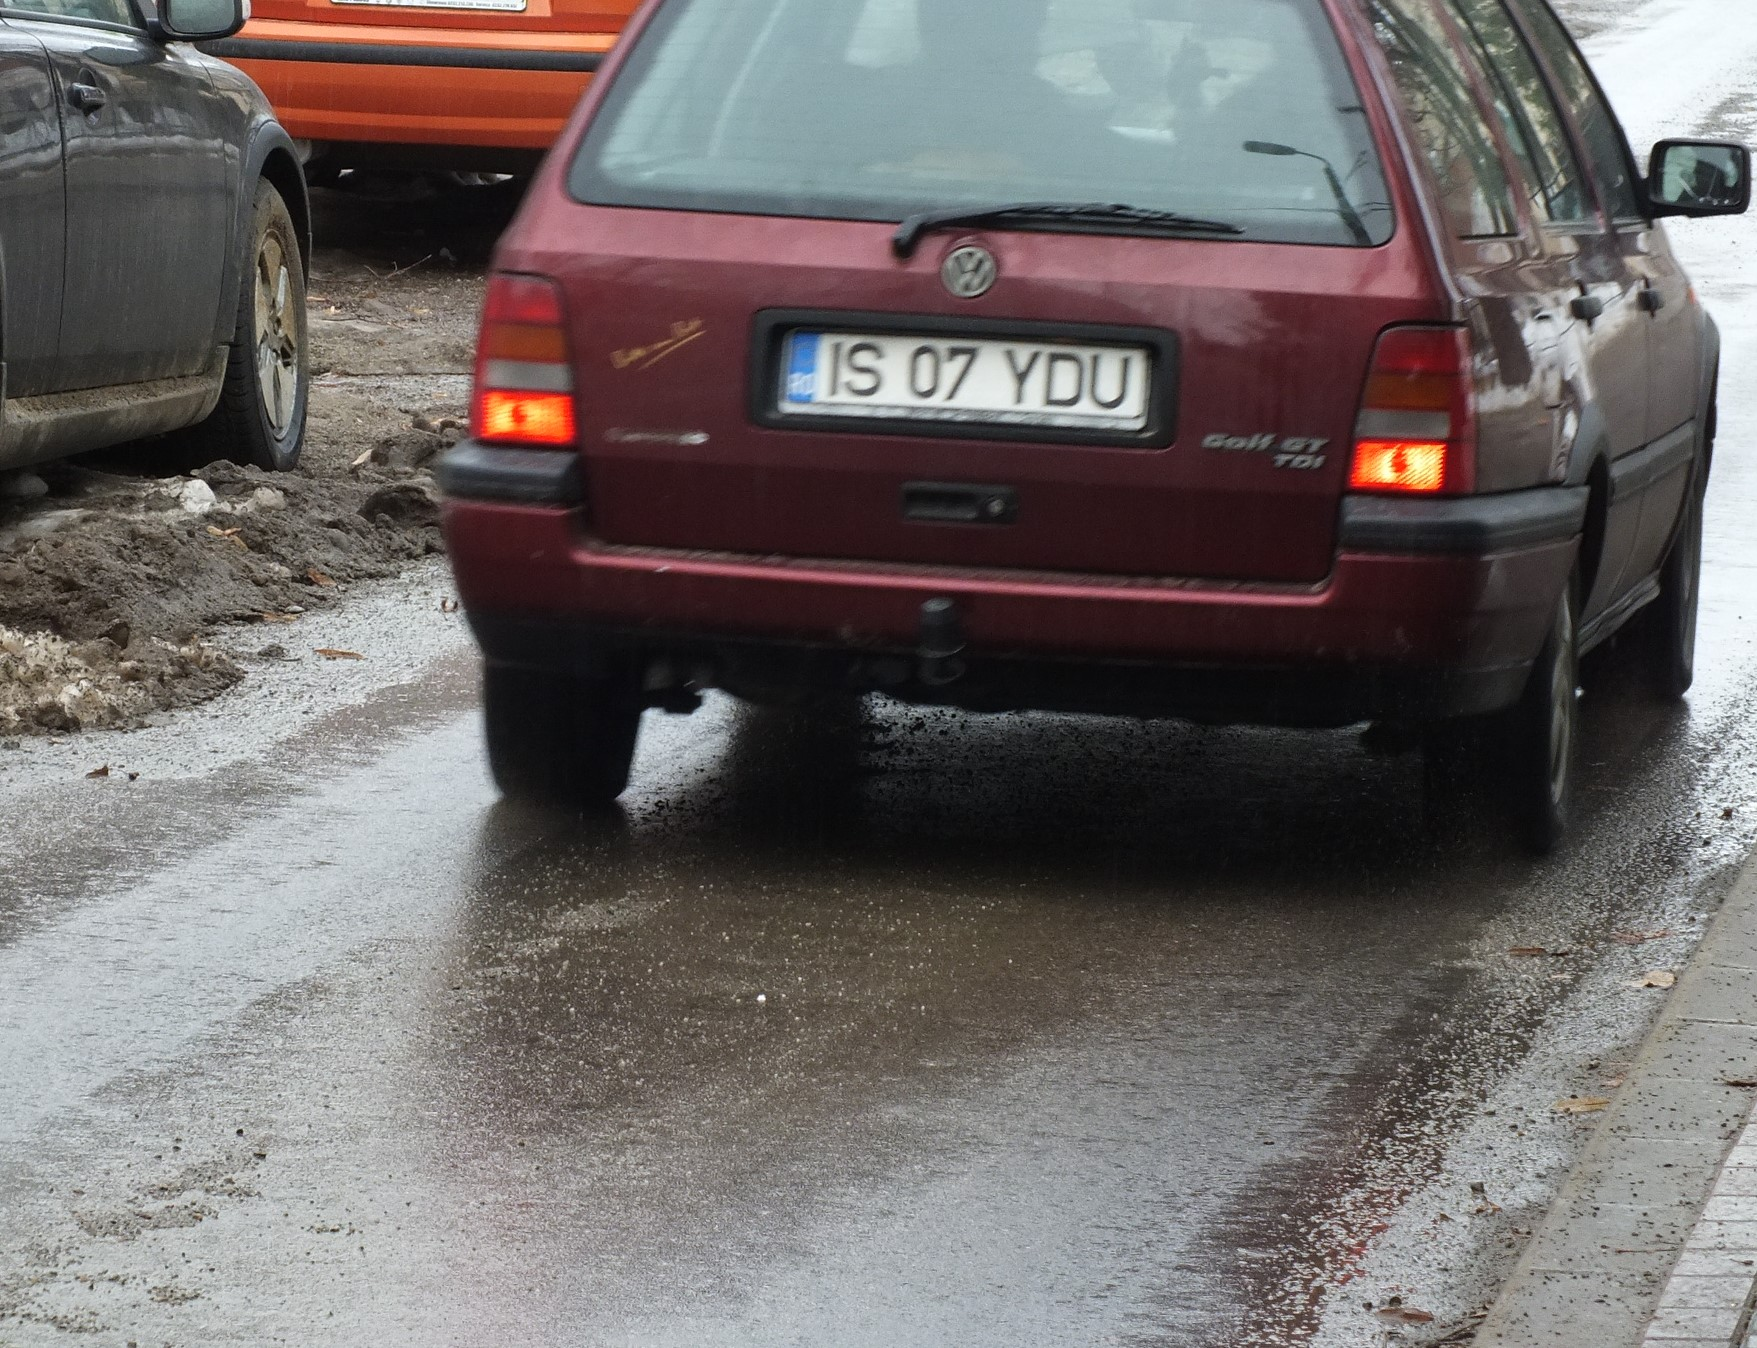IS07YDU: (786, 341, 1139, 414)
